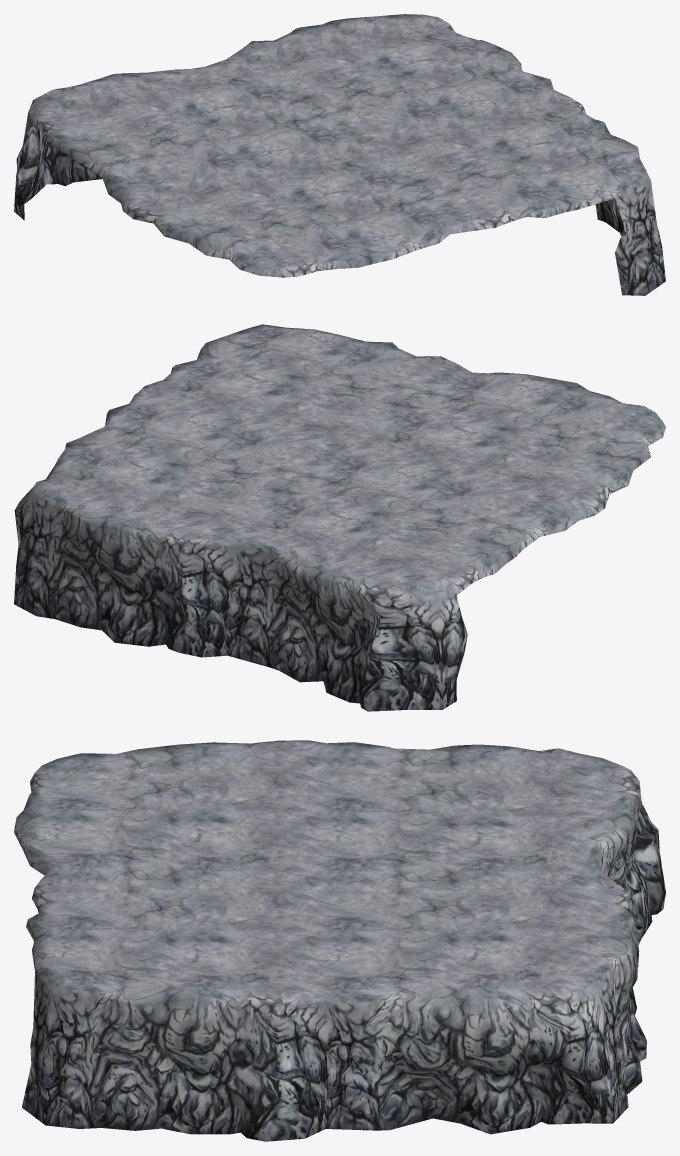
The model's file is STR_FloorCaveB01.FBX.
3 views of the same model, one above another, from view 1: azimuth 30°, elevation 25°; view 2: azimuth 150°, elevation 25°; view 3: azimuth 270°, elevation 25° (orthographic). The views are drawn at different scales.
Parts seen in each view (by area): view 1: STR_FloorCaveB01; view 2: STR_FloorCaveB01; view 3: STR_FloorCaveB01.
Boxes of the visible parts, left/top/right/bottom form: STR_FloorCaveB01: left=14, top=14, right=665, bottom=295; STR_FloorCaveB01: left=14, top=324, right=665, bottom=711; STR_FloorCaveB01: left=14, top=740, right=665, bottom=1141.
Size of the model in its own units: 1814 by 401 by 1805.
